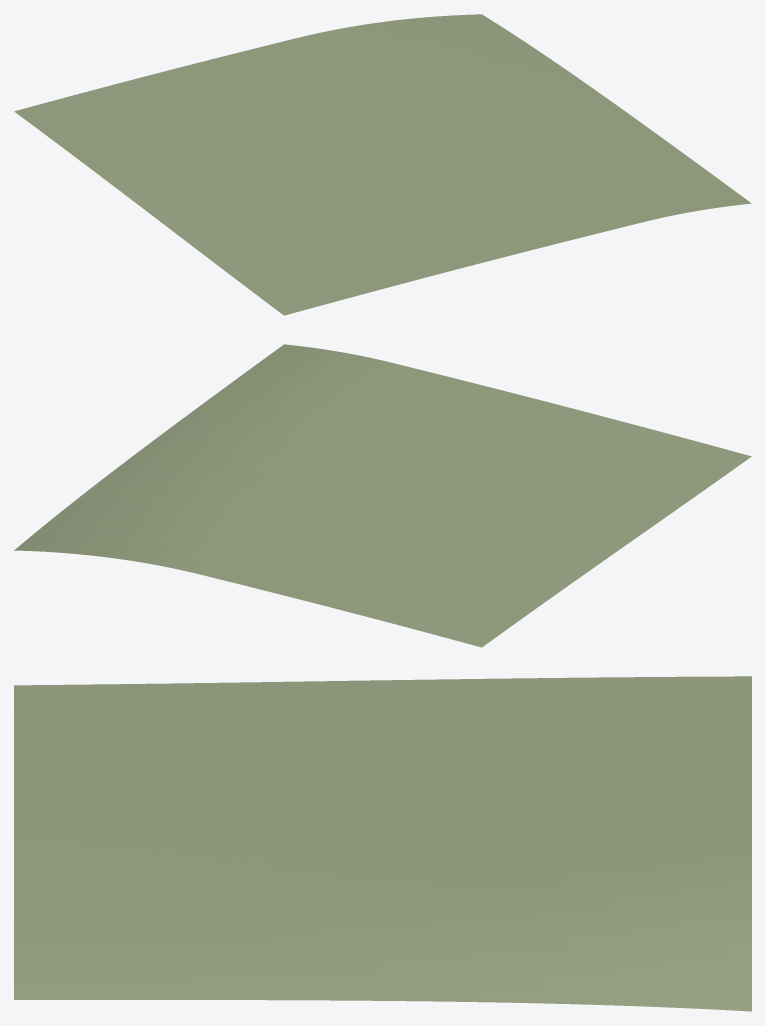
Rendered from expanse-22-5.glb.
3 renders of one model, top to bottom at view 1: azimuth 30°, elevation 25°; view 2: azimuth 150°, elevation 25°; view 3: azimuth 270°, elevation 25°, orthographic. The views are drawn at different scales.
Visible parts, largest first — view 1: expanse-22-5; view 2: expanse-22-5; view 3: expanse-22-5.
Boxes of the visible parts, box(x1,y1,x2,y2) form: expanse-22-5: box(14, 14, 751, 315); expanse-22-5: box(14, 344, 751, 647); expanse-22-5: box(14, 676, 751, 1011).
Size of the model in its own units: 256 by 11.17 by 256.
